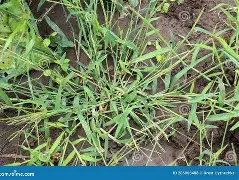weed: (0, 0, 238, 165)
